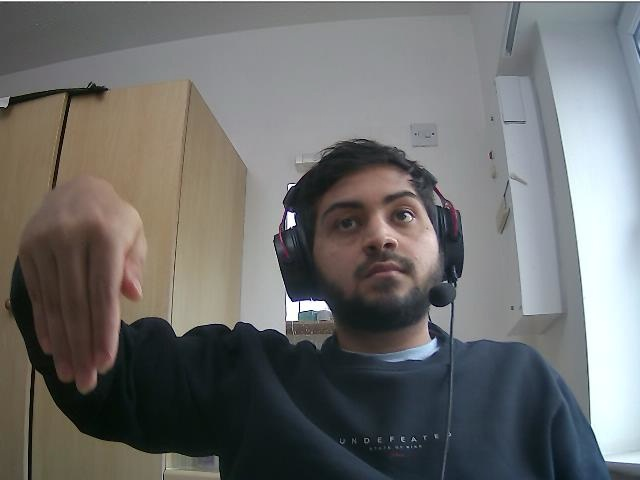down: (18, 175, 146, 395)
